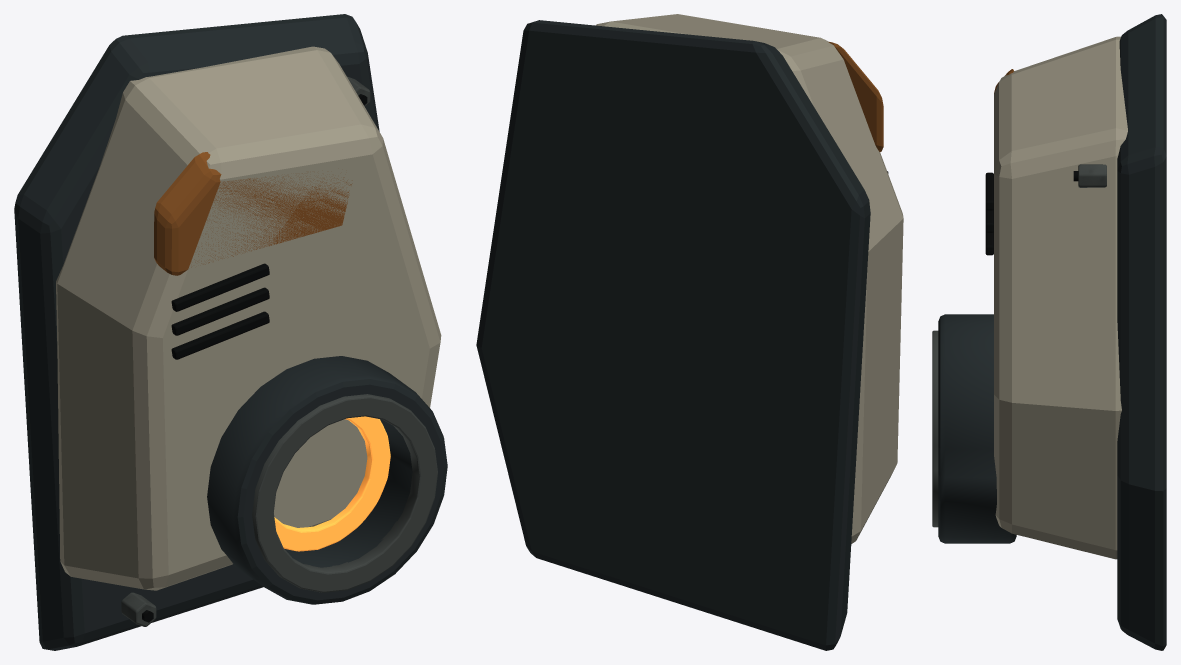
The model's file is pyro_boots.glb.
3 renders of one model, left to right at view 1: azimuth 30°, elevation 25°; view 2: azimuth 150°, elevation 25°; view 3: azimuth 270°, elevation 25°, orthographic. The views are drawn at different scales.
Visible parts, largest first — view 1: ivory, steel, edge, paint, amber, rubber; view 2: steel, ivory, paint; view 3: ivory, steel, edge, rubber.
Part boxes in pixels (x1,y1,x2,y2): ivory: [56, 46, 441, 590]; steel: [14, 14, 447, 650]; edge: [121, 76, 437, 626]; paint: [154, 152, 352, 275]; amber: [274, 416, 390, 551]; rubber: [142, 94, 367, 622]; steel: [476, 20, 870, 650]; ivory: [595, 14, 903, 543]; paint: [828, 42, 883, 151]; ivory: [994, 36, 1127, 559]; steel: [938, 14, 1166, 650]; edge: [932, 164, 1106, 527]; rubber: [985, 171, 1078, 255].
Size of the model in its own units: 0.1018 by 0.1489 by 0.057.
7 materials, 6 textured.
